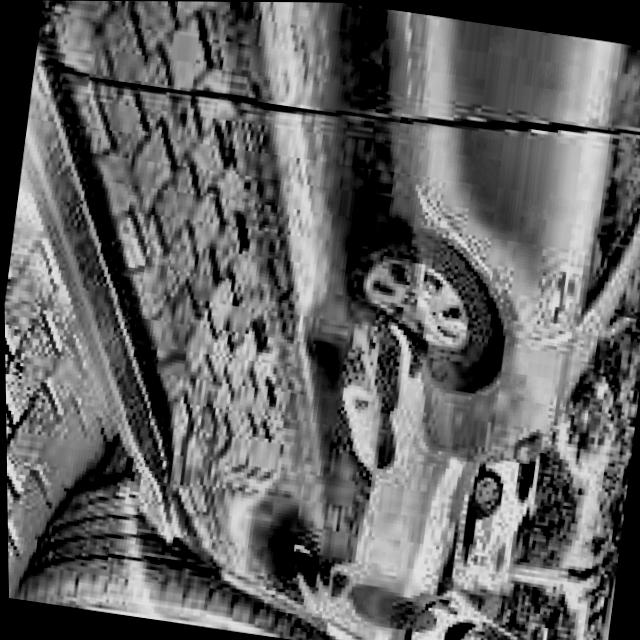door_dent: (177, 290, 408, 586)
